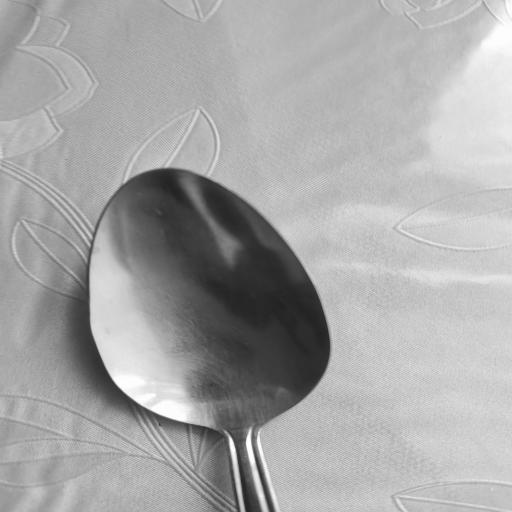spoon: (91, 161, 320, 512)
